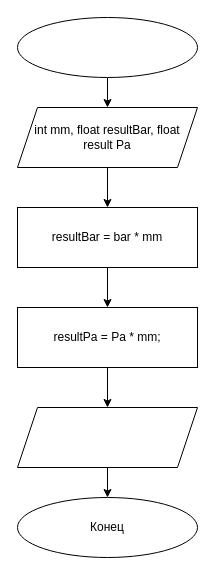
Image size: 215x575. Some labels were removed from this diagram. The centre of each missing label's shape, as x and y in pixels:
resultBar, resultPa: (x=107, y=437)
Начало: (x=107, y=47)
